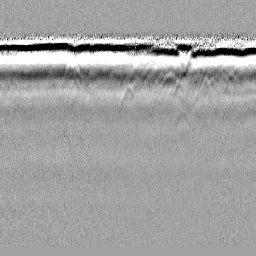cavity: (120, 84, 136, 106)
